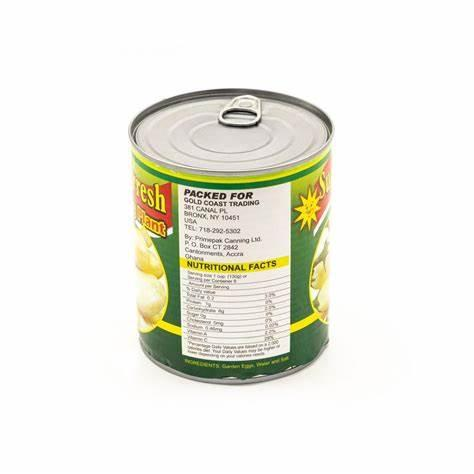metal: (129, 89, 334, 384)
